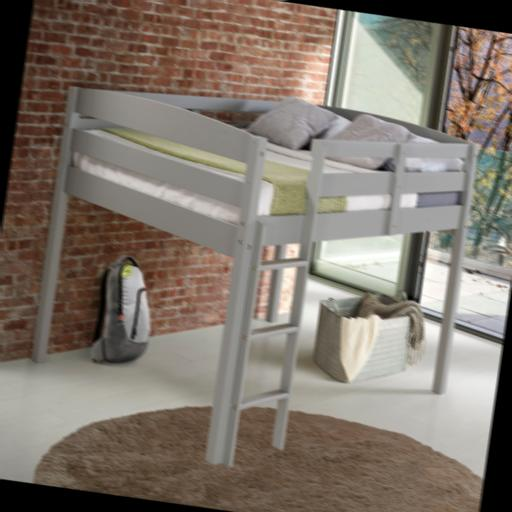bed: (18, 66, 483, 495)
